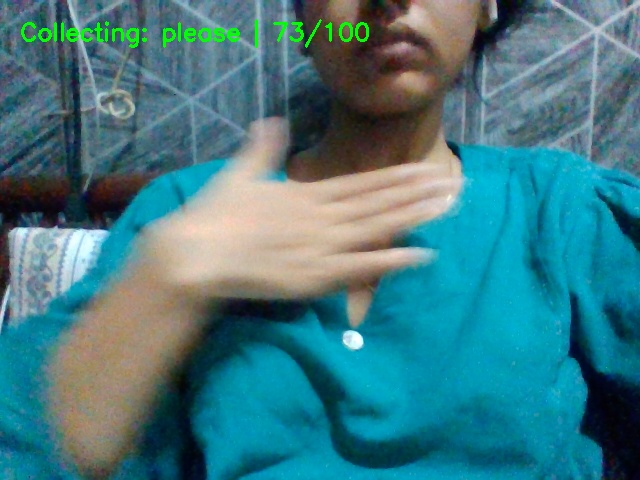please: (150, 110, 509, 337)
